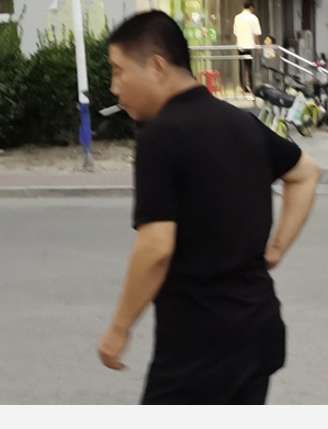smoke: (98, 103, 125, 117)
